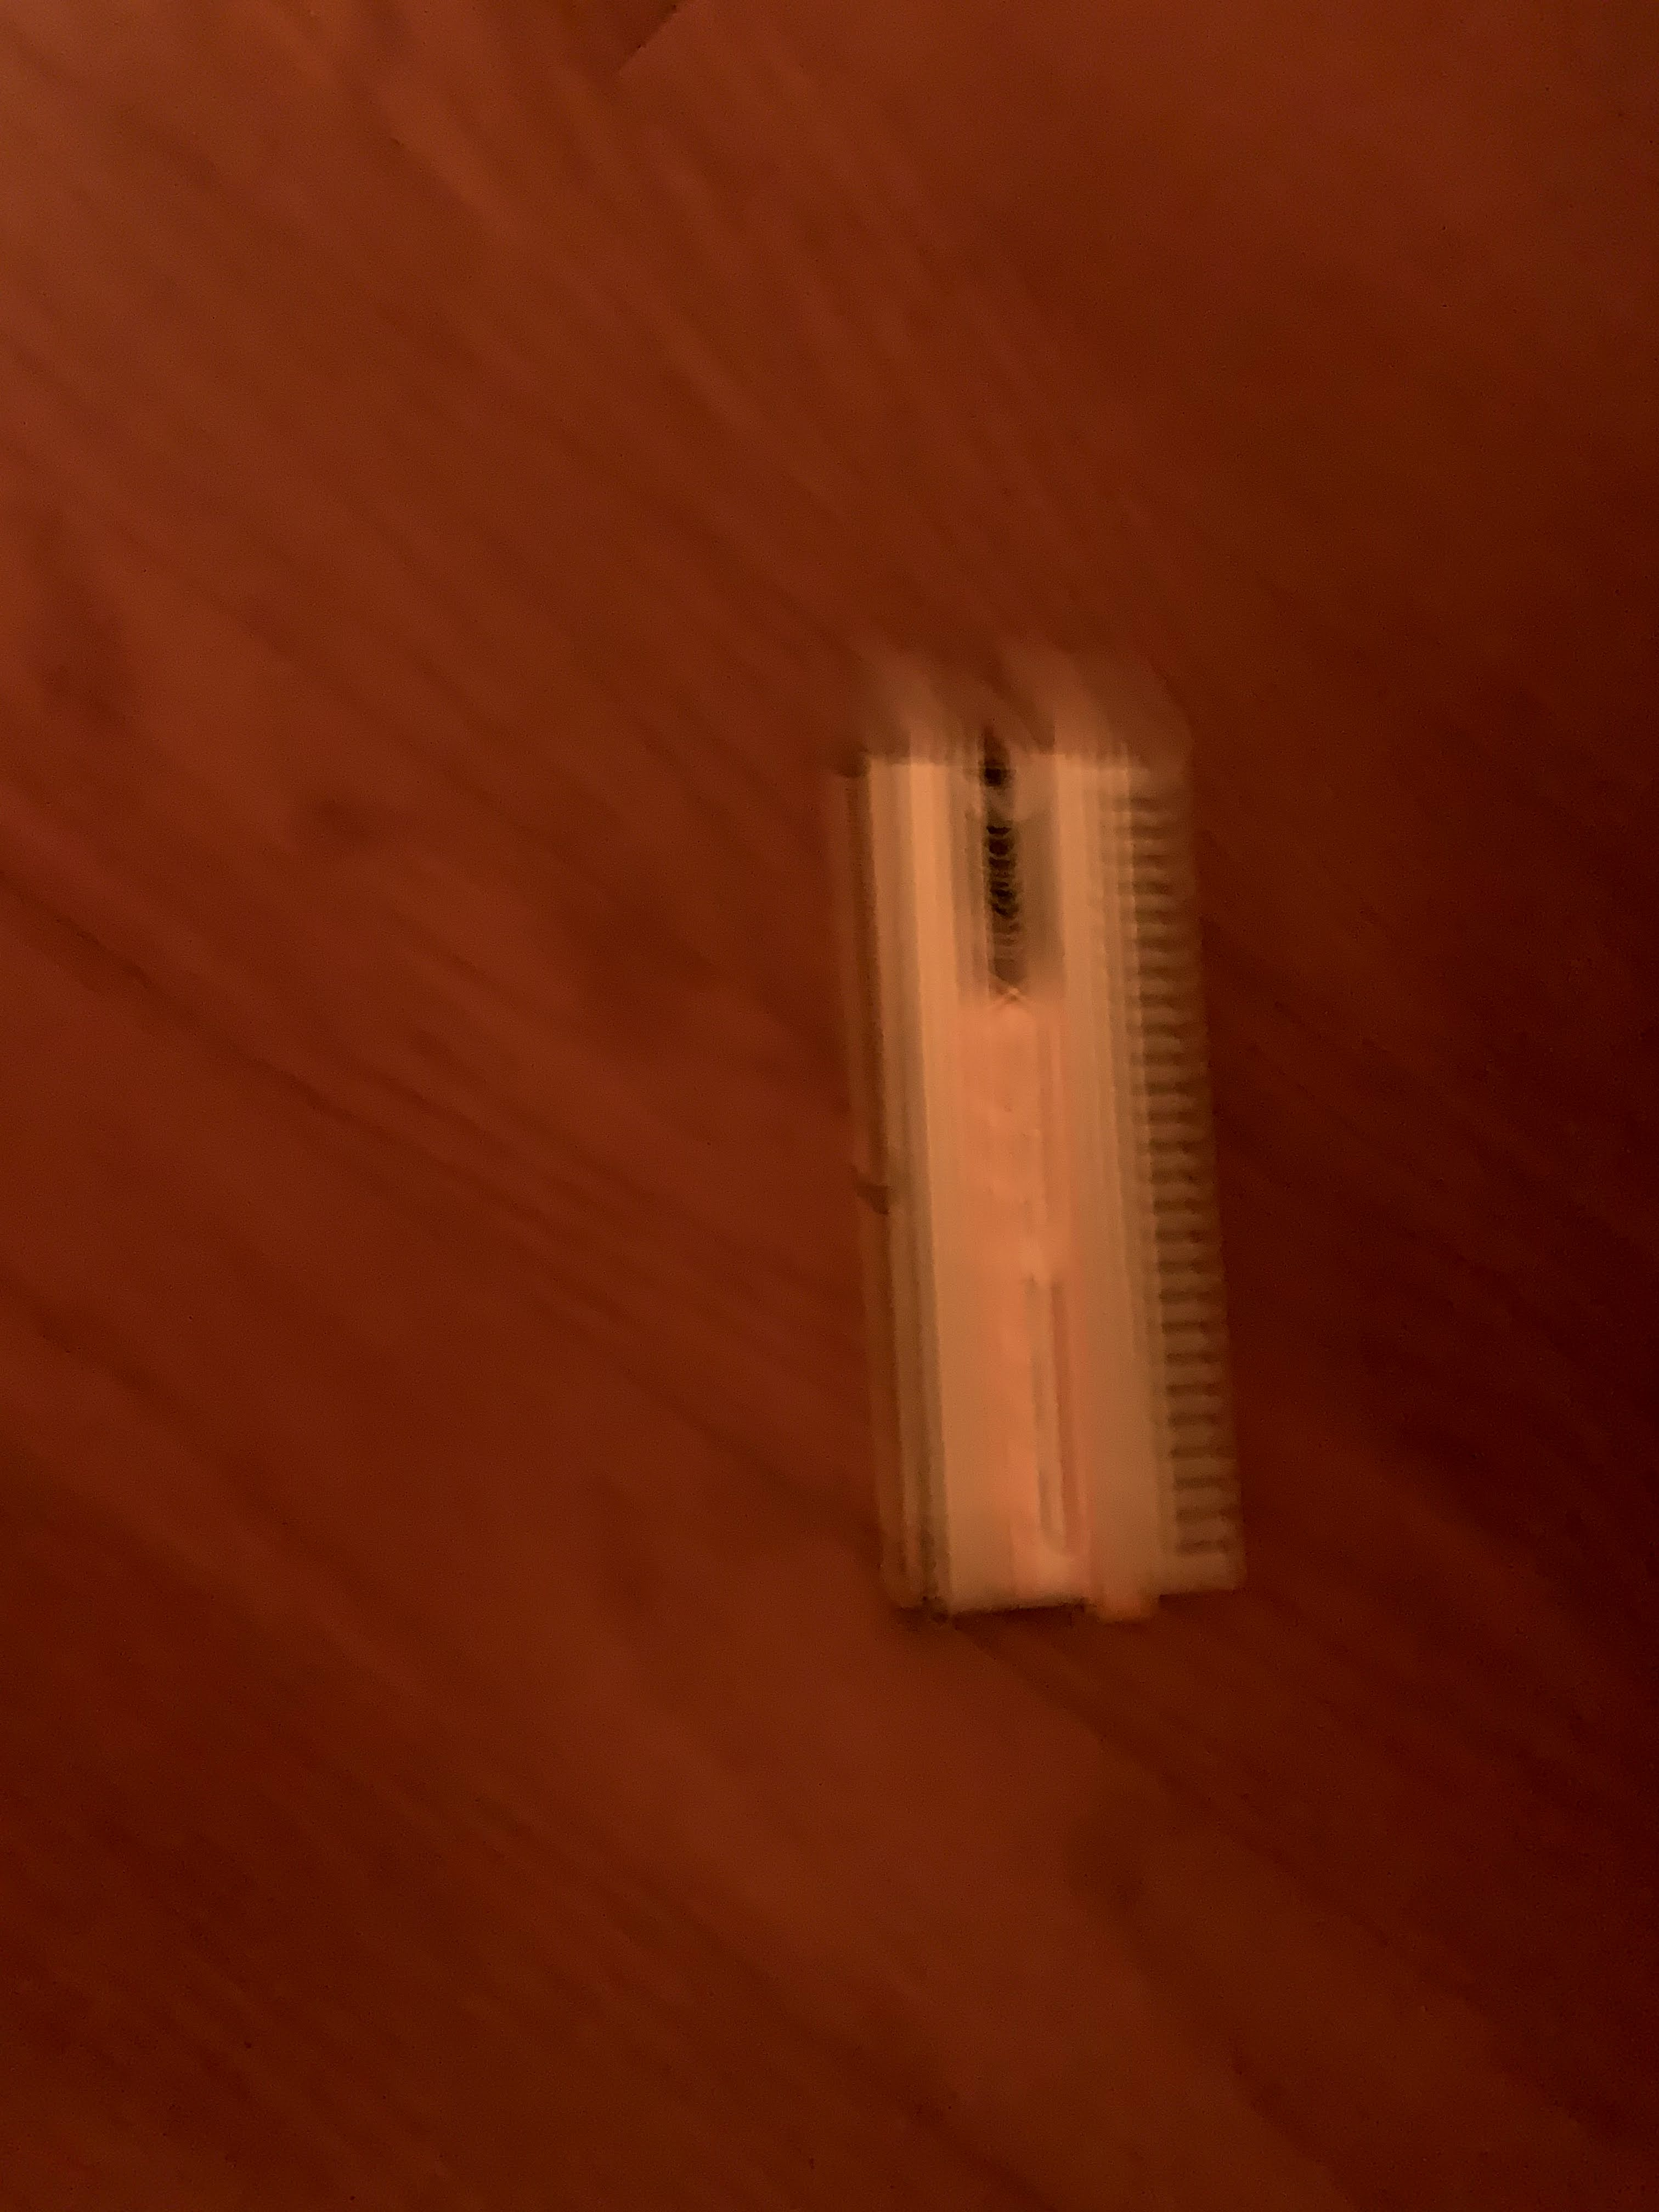Space-debris-medium: (812, 711, 1269, 1642)
